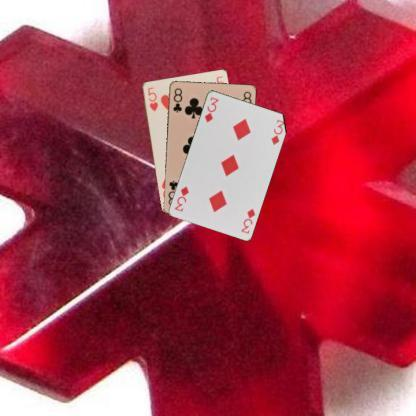3d: (238, 206, 257, 235), (202, 94, 220, 124)
5h: (145, 84, 159, 112)
8c: (171, 86, 183, 114)
